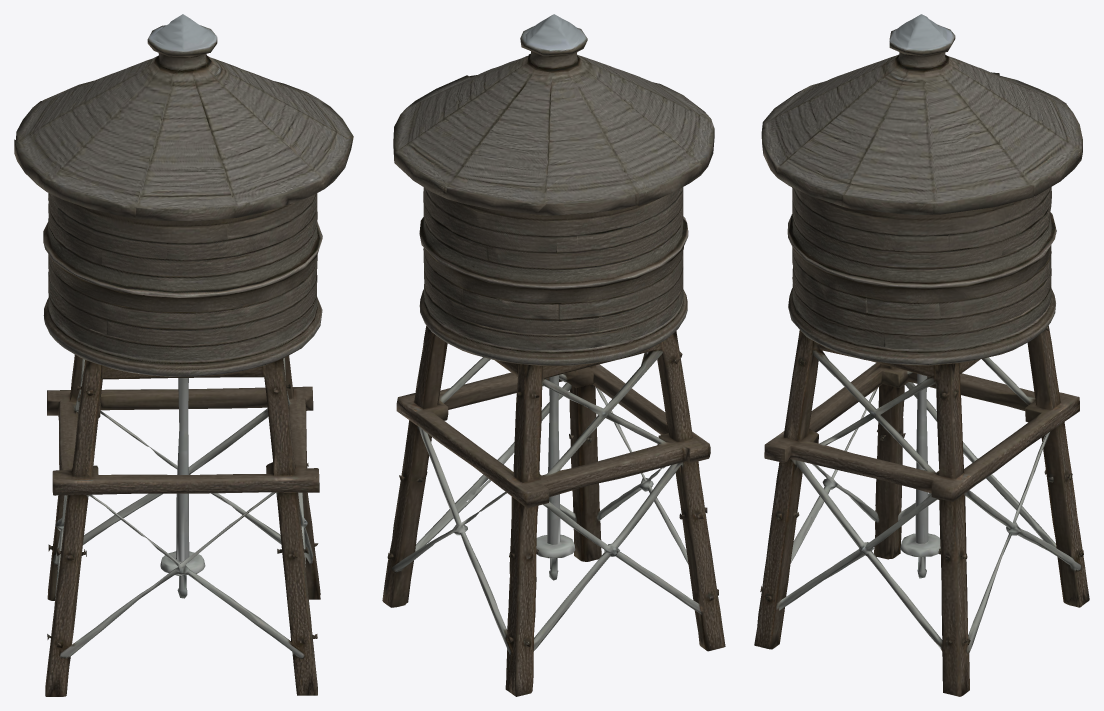
File: watertower.glb
The picture shows the model from 3 angles, left to right: view 1: azimuth 30°, elevation 25°; view 2: azimuth 150°, elevation 25°; view 3: azimuth 270°, elevation 25°; orthographic projection. The views are drawn at different scales.
Parts seen in each view (by area): view 1: tripo_node_72b0fd4b-7c20-4ac5-b45c-55a0779e79c8; view 2: tripo_node_72b0fd4b-7c20-4ac5-b45c-55a0779e79c8; view 3: tripo_node_72b0fd4b-7c20-4ac5-b45c-55a0779e79c8.
Boxes of the visible parts, x1,y1,x2,y2 form: tripo_node_72b0fd4b-7c20-4ac5-b45c-55a0779e79c8: [14, 14, 353, 696]; tripo_node_72b0fd4b-7c20-4ac5-b45c-55a0779e79c8: [382, 14, 725, 696]; tripo_node_72b0fd4b-7c20-4ac5-b45c-55a0779e79c8: [754, 14, 1089, 696].
Size of the model in its own units: 2.35 by 4.5 by 2.25.
1 material, 1 textured.
